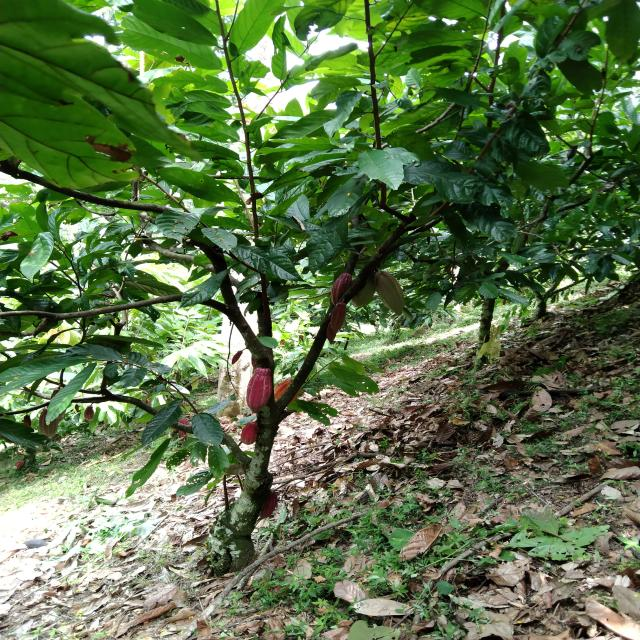Sana: (374, 271, 404, 316), (245, 370, 276, 410), (349, 280, 377, 308), (273, 378, 298, 404), (331, 273, 351, 304), (329, 302, 347, 333), (239, 421, 258, 445), (327, 322, 336, 344)
